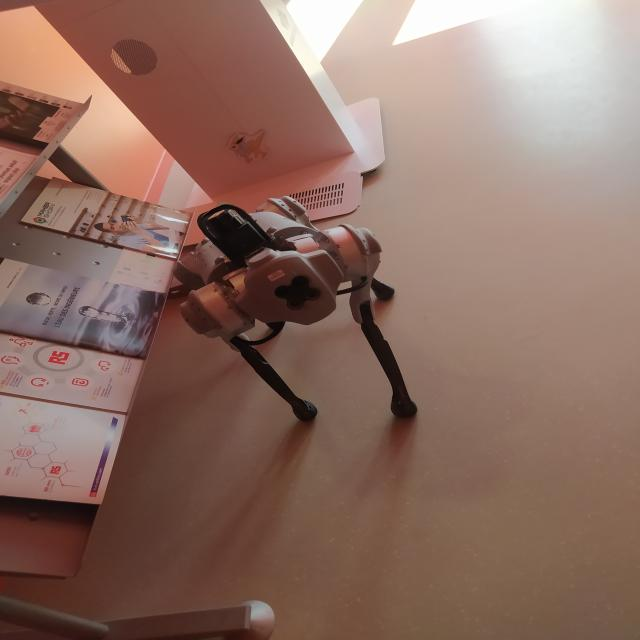unitree-go1-robot: (150, 188, 437, 435)
